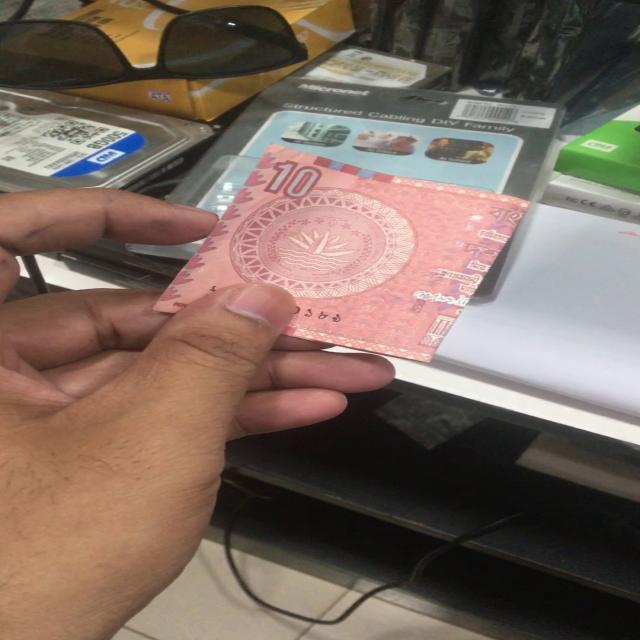Taka: (166, 150, 524, 352)
